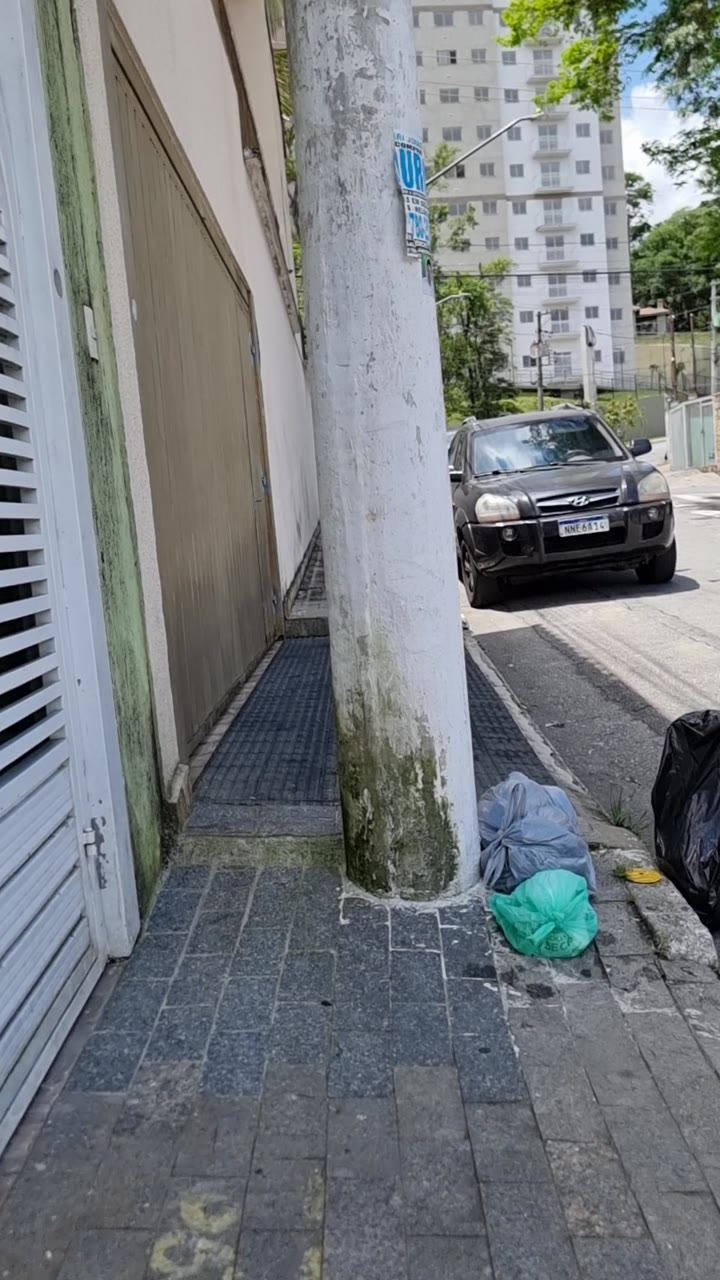obstaculo: (288, 0, 454, 896), (652, 710, 719, 930), (479, 772, 595, 894), (489, 869, 597, 958)
